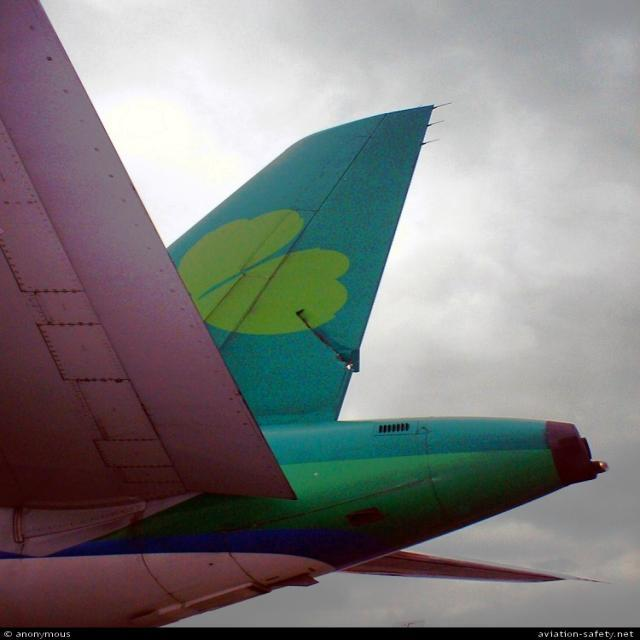crack: (296, 309, 365, 375)
